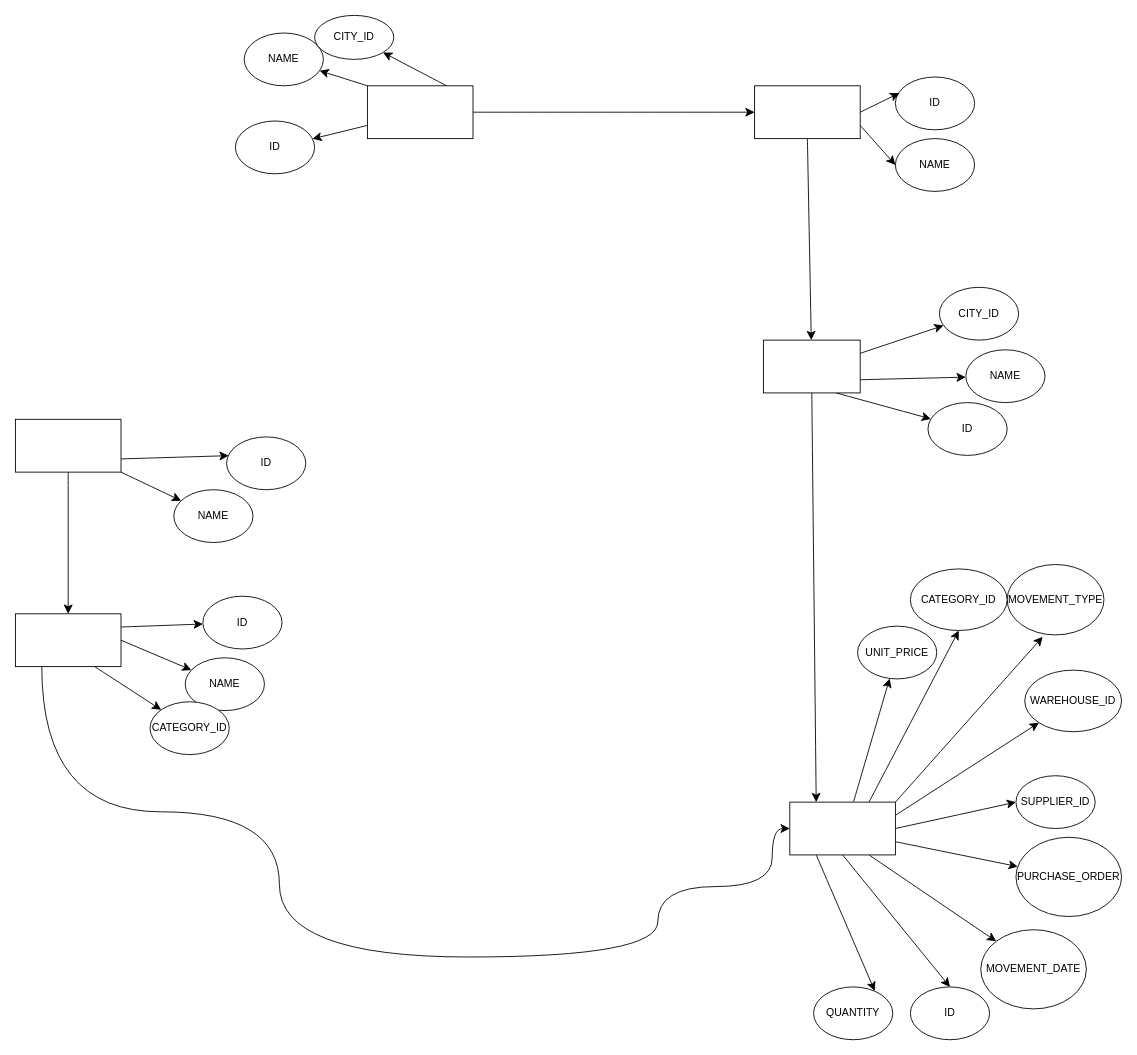
This 1137x1055 diagram has some shape labels left out. The centre of each missing label's shape, as x and y in pixels:
Riwi_category: point (68, 445)
Riwi_city: point (807, 112)
Riwi_movement: point (842, 828)
Riwi_product: point (68, 640)
Riwi_supplies: point (811, 366)
Riwi_warehouse: point (420, 112)
